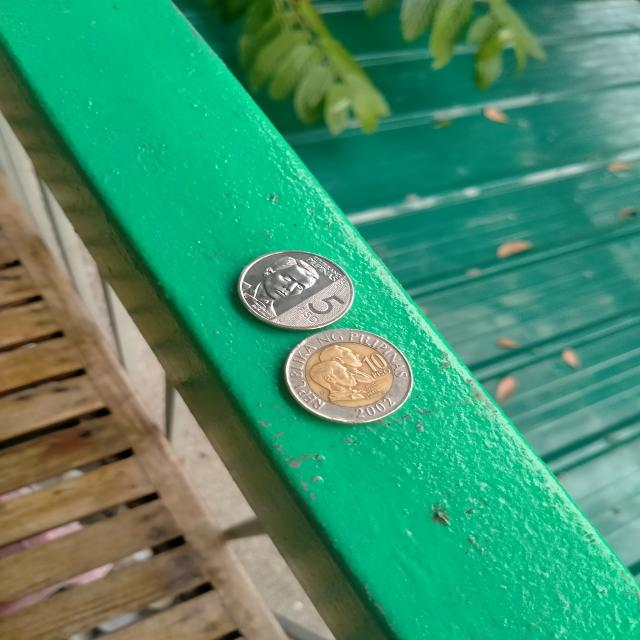10_Old_Front: (290, 332, 415, 420)
5_New_Front: (239, 255, 347, 322)
